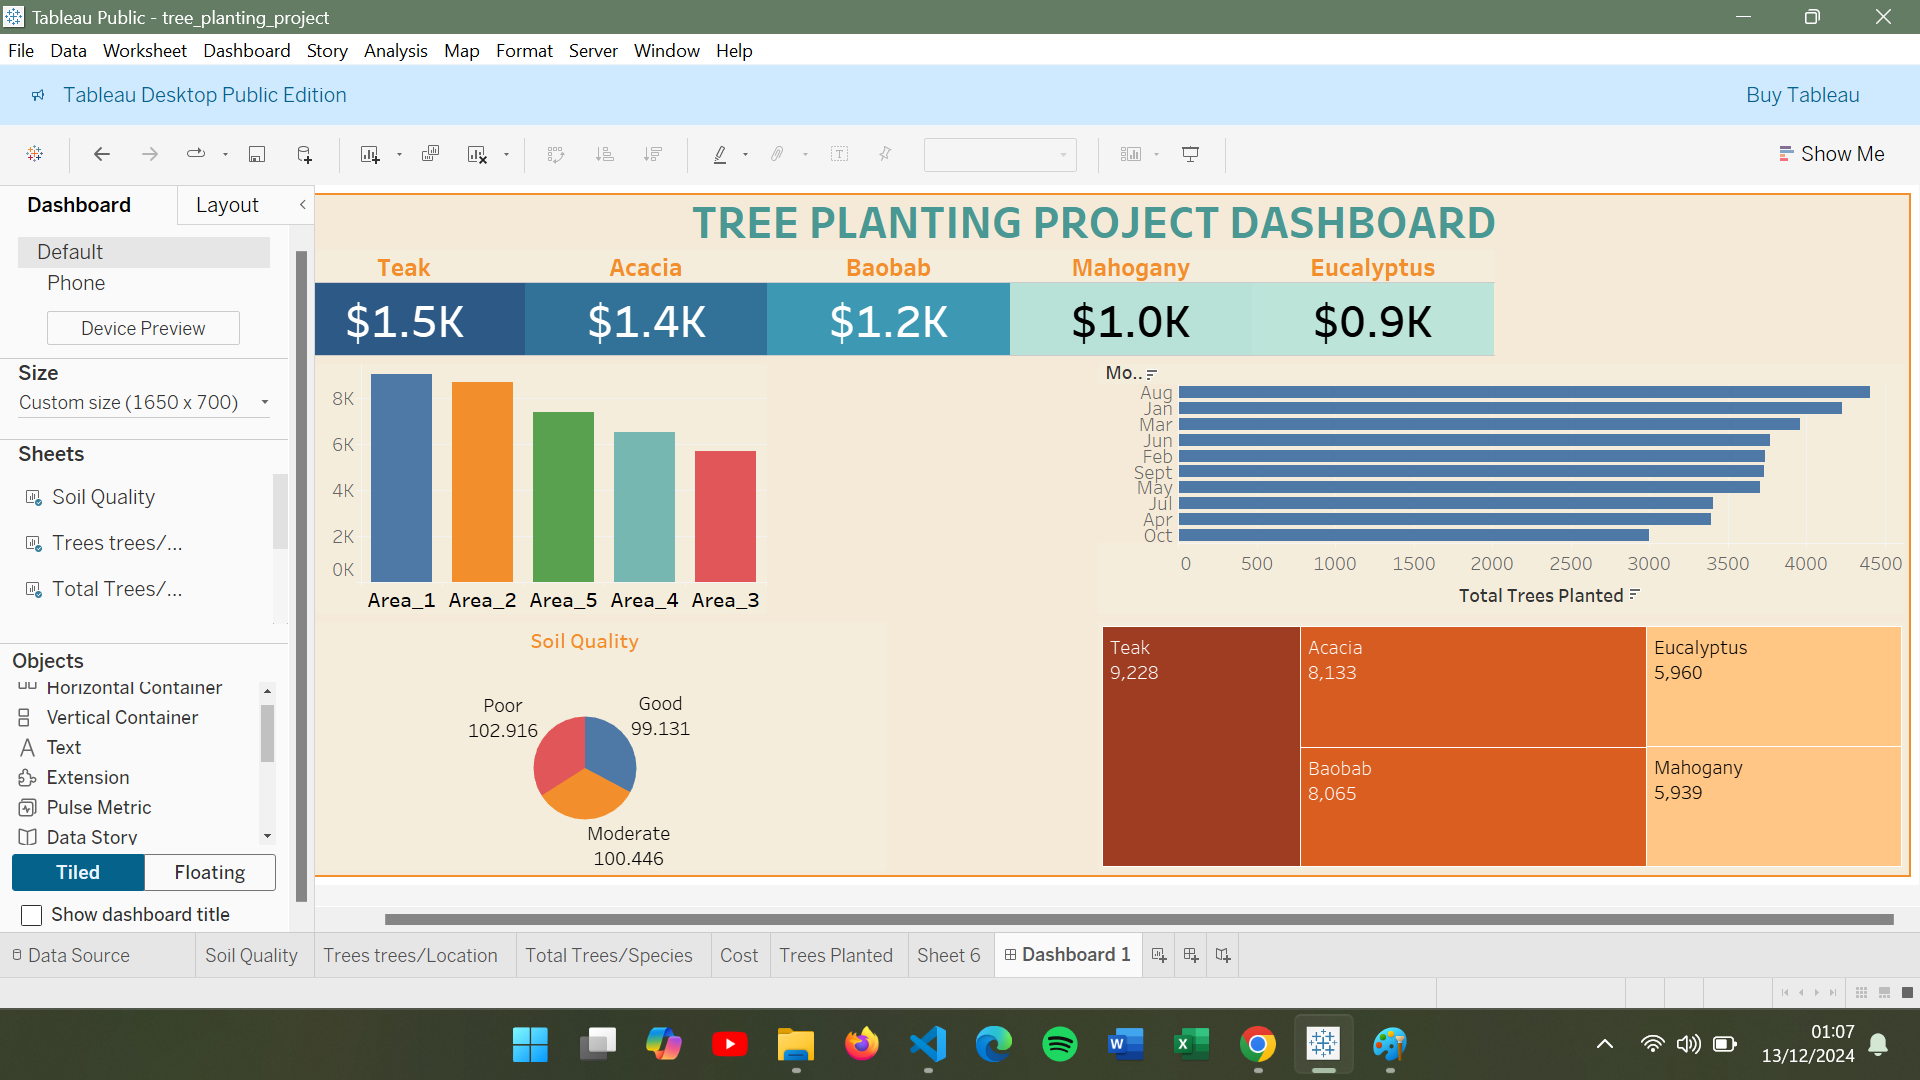

The page's visual inventory and layout, read from the dashboard file:
{"tool":"tableau","page":{"name":"Dashboard 1","canvas":[1650,700],"ordinal":0},"visuals":[{"type":"text","box":[10,10,1630,51]},{"type":"worksheet","title":"Cost","mark":"Square","cols":["Species"],"box":[10,61,1219.9,114]},{"type":"blank","box":[1229.9,61,410,114]},{"type":"worksheet","title":"Trees trees/Location","mark":"Automatic","rows":["Total_Trees_Planted"],"cols":["Location"],"box":[10,175,815,258]},{"type":"worksheet","title":"Trees Planted","mark":"Bar","rows":["Planting_Date"],"cols":["Total_Trees_Planted"],"box":[825,175,815,258]},{"type":"worksheet","title":"Soil Quality","mark":"Pie","box":[10,433,612,257]},{"type":"blank","box":[622,433,203,257]},{"type":"worksheet","title":"Total Trees/Species","mark":"Automatic","box":[825,433,815,257]}]}

Visuals, with their boxes on the page's 1650x700 design canvas (x1, y1, x2, y2). These are canvas units, not pixel positions in the 1920x1080 screenshot, which may show the page scaled, cropped or inside an application window:
text: box(10, 10, 1640, 61)
"Cost" worksheet (Square marks): box(10, 61, 1230, 175)
blank: box(1230, 61, 1640, 175)
"Trees trees/Location" worksheet: box(10, 175, 825, 433)
"Trees Planted" worksheet (Bar marks): box(825, 175, 1640, 433)
"Soil Quality" worksheet (Pie marks): box(10, 433, 622, 690)
blank: box(622, 433, 825, 690)
"Total Trees/Species" worksheet: box(825, 433, 1640, 690)
